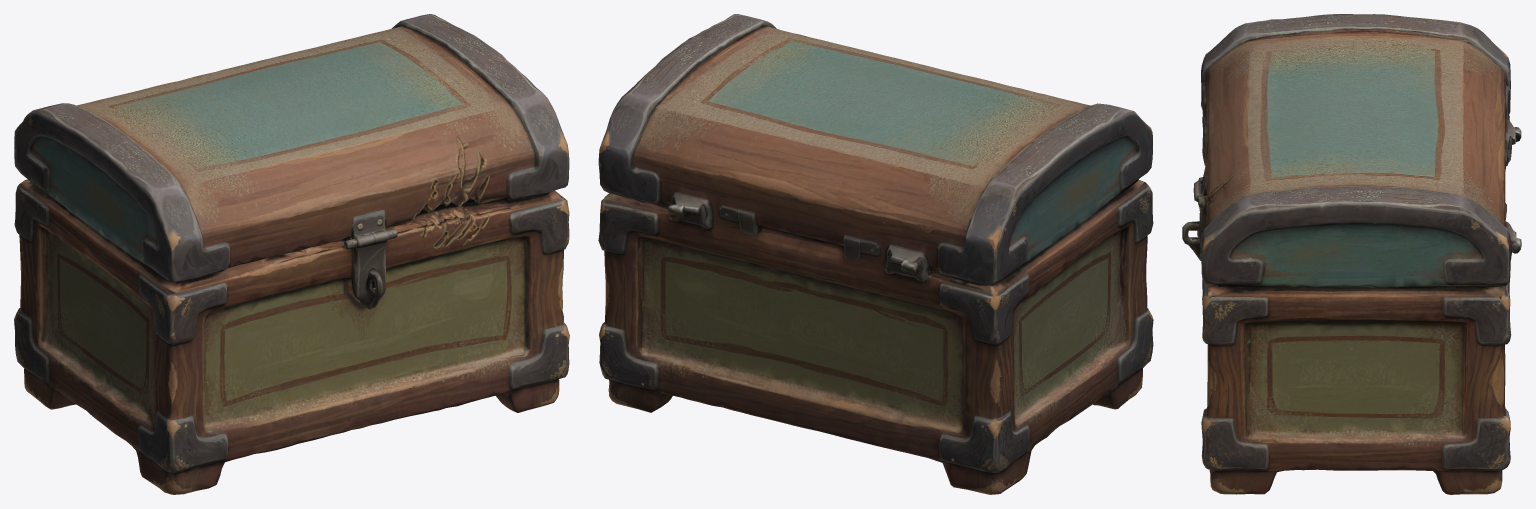
The model's file is Furn_ToyChest.fbx.
3 renders of one model, left to right at view 1: azimuth 30°, elevation 25°; view 2: azimuth 150°, elevation 25°; view 3: azimuth 270°, elevation 25°, orthographic. The views are drawn at different scales.
Parts seen in each view (by area): view 1: texture_mapping; view 2: texture_mapping; view 3: texture_mapping.
Part boxes in pixels (x1,y1,x2,y2): texture_mapping: (14, 14, 569, 494); texture_mapping: (598, 14, 1153, 494); texture_mapping: (1182, 14, 1521, 494).
Bounding box in the file's own units: 0.9999 × 0.7539 × 0.7272.
Materials: 1 (1 with a texture image).
